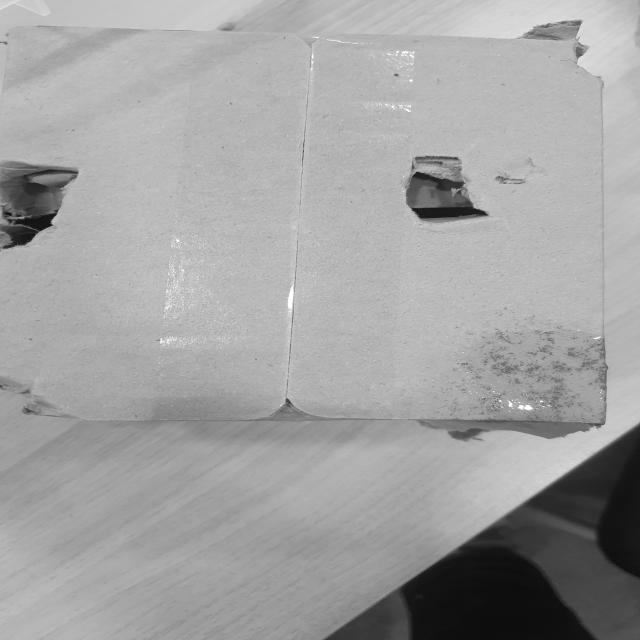hole: (399, 162, 496, 236), (1, 165, 86, 249)
wet: (440, 328, 618, 438)
